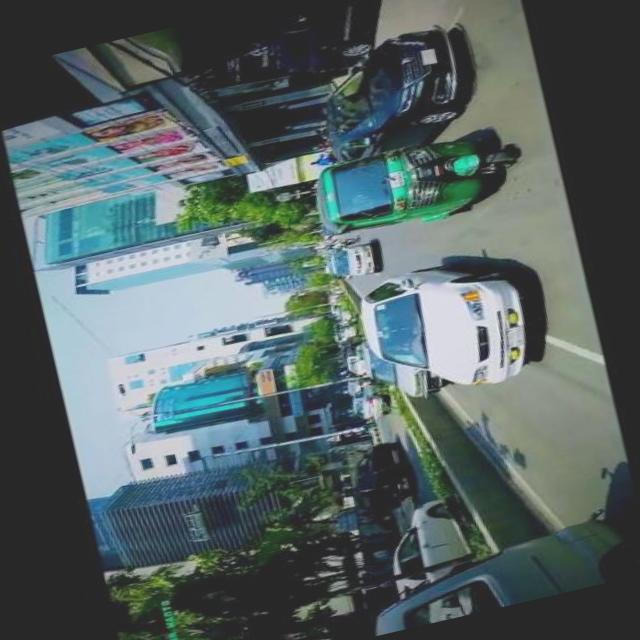car: (350, 251, 534, 410), (304, 24, 468, 166), (372, 496, 466, 597), (358, 337, 442, 410), (340, 439, 411, 518), (324, 240, 376, 284), (344, 382, 385, 424), (338, 347, 367, 380), (342, 376, 370, 397)
motorcycle: (303, 124, 520, 246)
